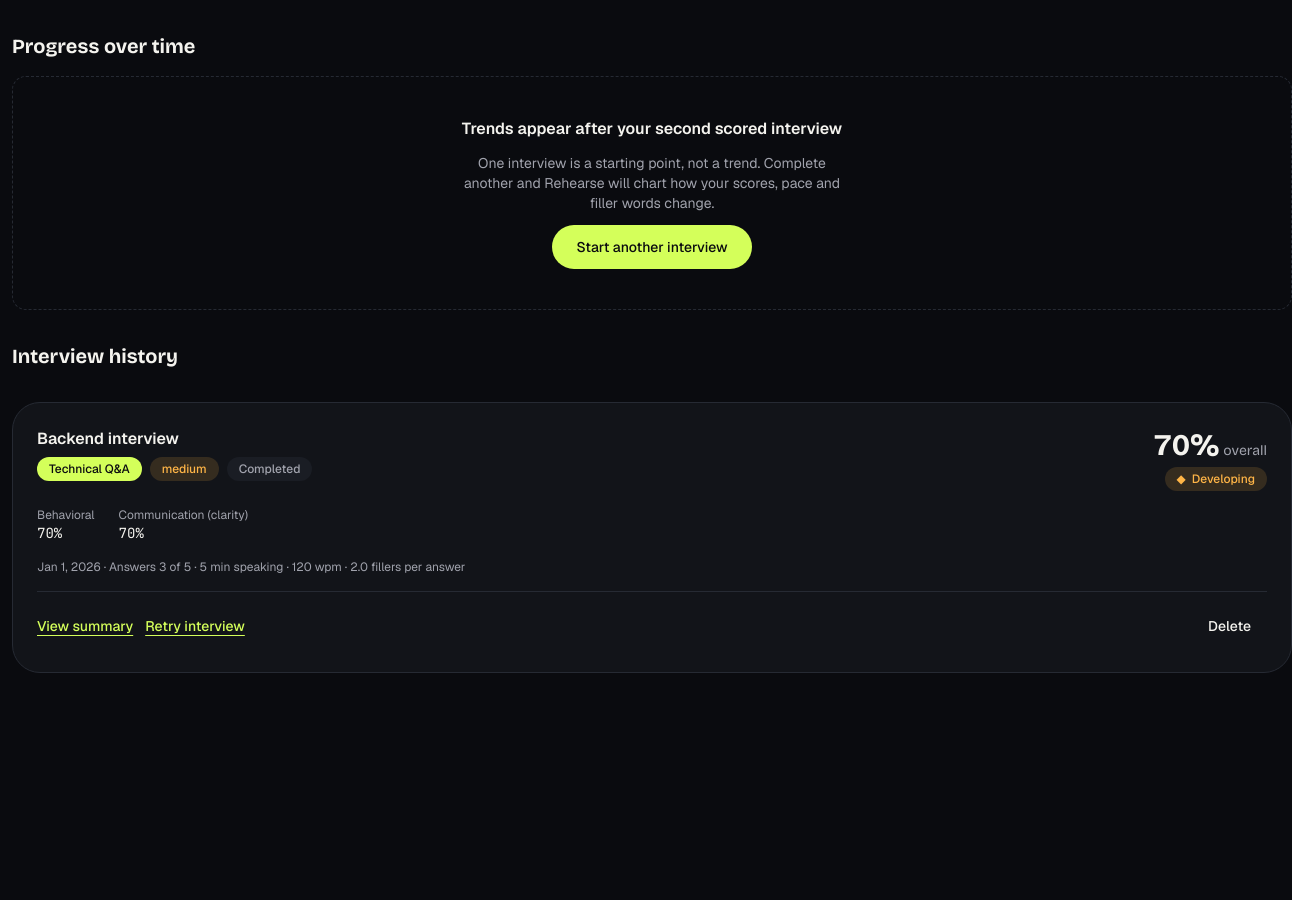
Scenario: ProgressView › keeps the session and confirmation available when deletion fails
The image size is (1292, 900).
What coordinates should you click on to do the following:
click the button "Delete"
I would click on:
 (1229, 626)
Its box is [1192,608,1267,644].
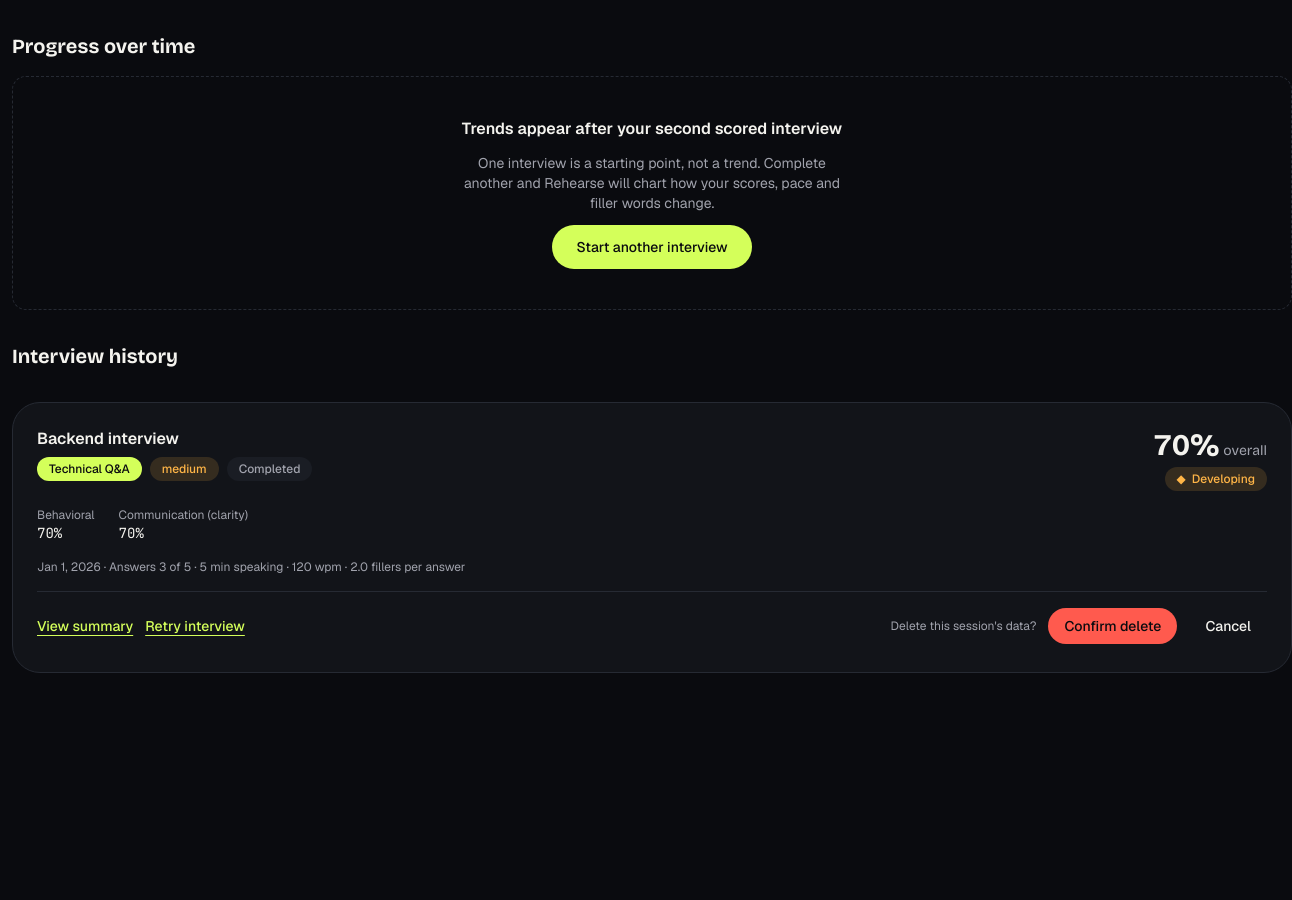
What coordinates should you click on to do the following:
click the button "Confirm delete"
I would click on:
 (1113, 626)
Its box is [1048,608,1177,644].
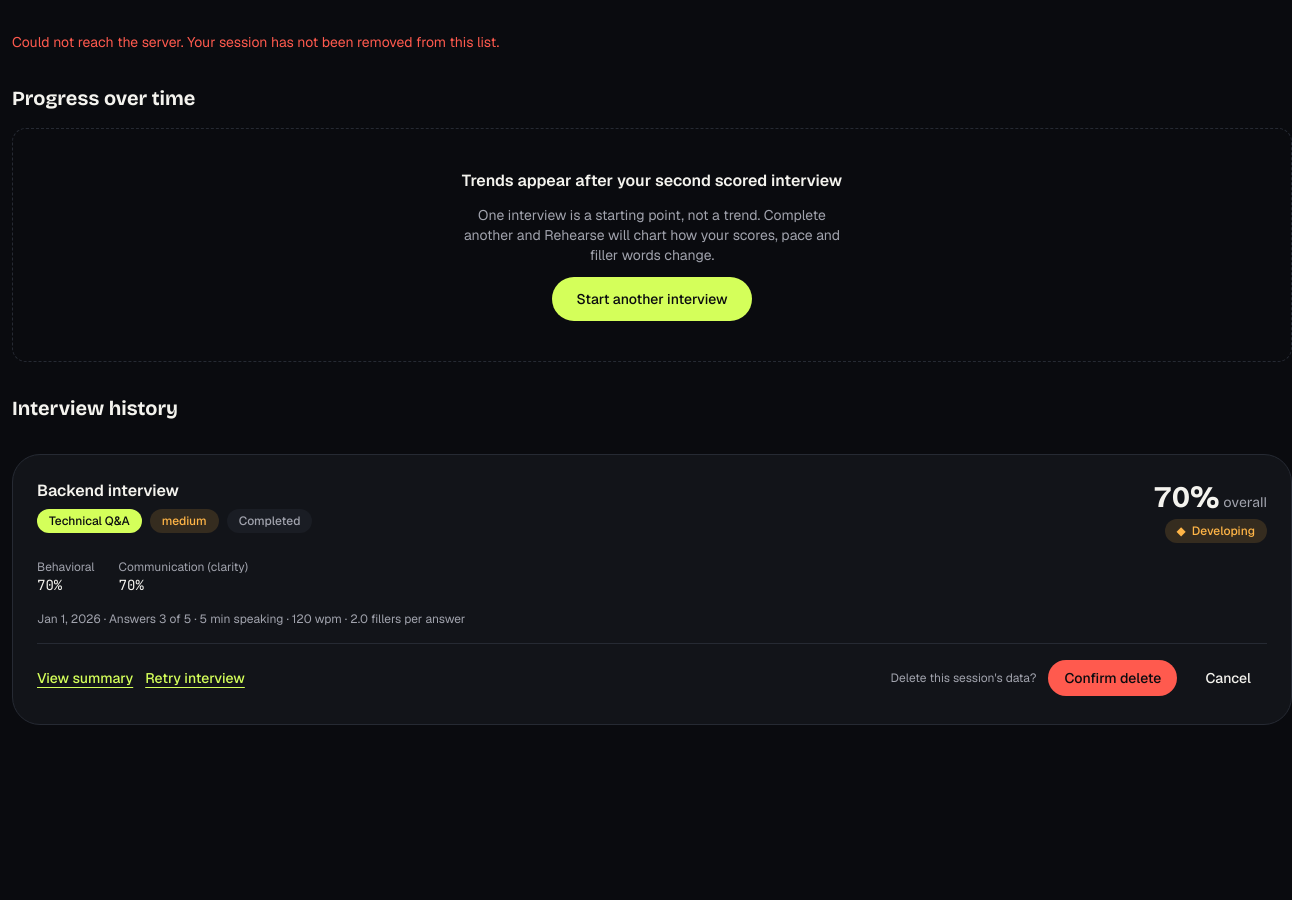
Expected: the button "Confirm delete" is enabled, [1048,660,1177,696]
Expected: the message shows "Could not reach the server", [12,33,499,51]
